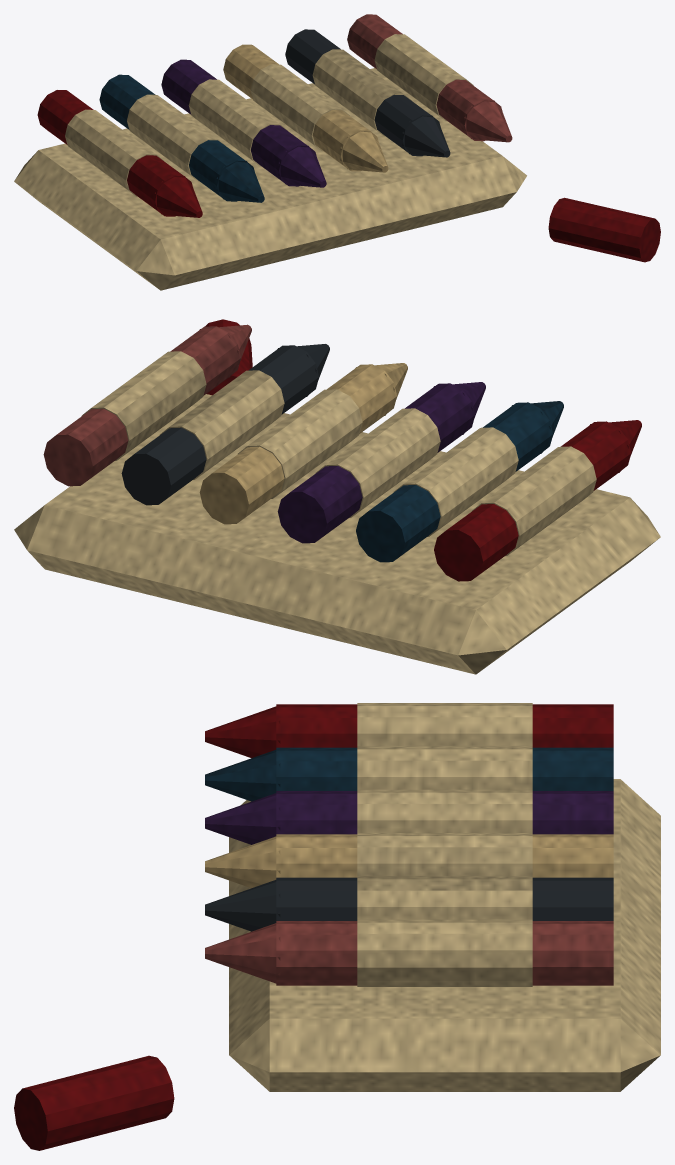
File: wax_crayons.glb
3 renders of one model, top to bottom at view 1: azimuth 30°, elevation 25°; view 2: azimuth 150°, elevation 25°; view 3: azimuth 270°, elevation 25°, orthographic. The views are drawn at different scales.
Visible parts, largest first — view 1: wax_crayons; view 2: wax_crayons; view 3: wax_crayons.
Boxes of the visible parts, x1,y1,x2,y2 form: wax_crayons: [14, 14, 660, 290]; wax_crayons: [14, 319, 660, 674]; wax_crayons: [14, 703, 660, 1150].
Bounding box in the file's own units: 0.2746 × 0.0695 × 0.2397.
7 materials, 6 textured.
